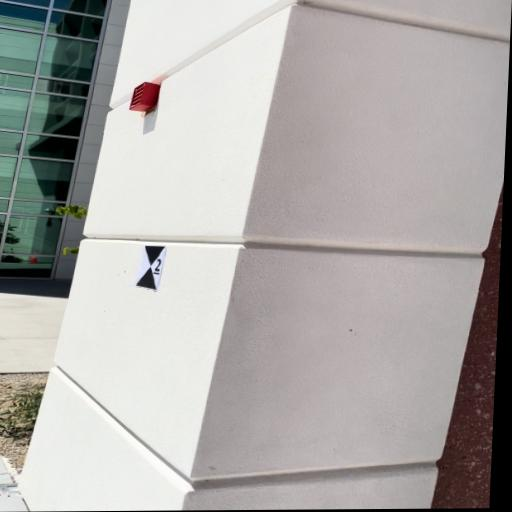target2: (132, 245, 166, 291)
